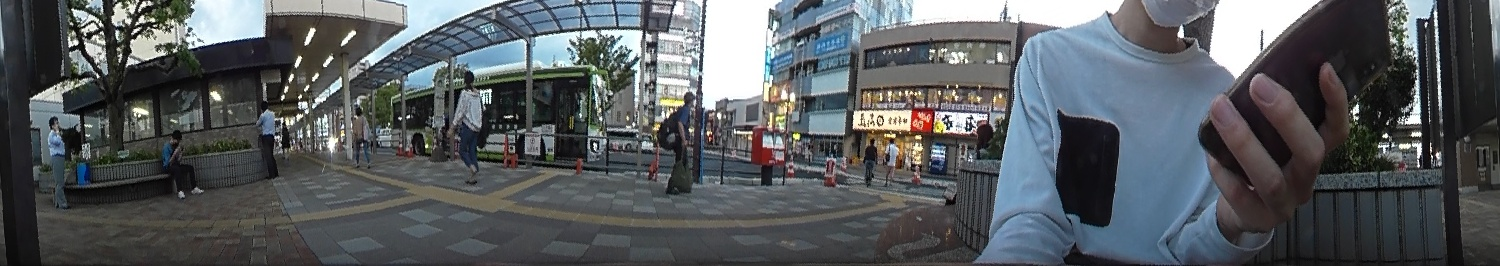difficult_person: (882, 133, 903, 187), (861, 134, 878, 187), (281, 118, 290, 160)
person: (655, 89, 698, 193), (451, 70, 488, 189), (157, 124, 205, 203), (42, 113, 72, 212), (250, 101, 277, 179), (352, 104, 374, 171)
